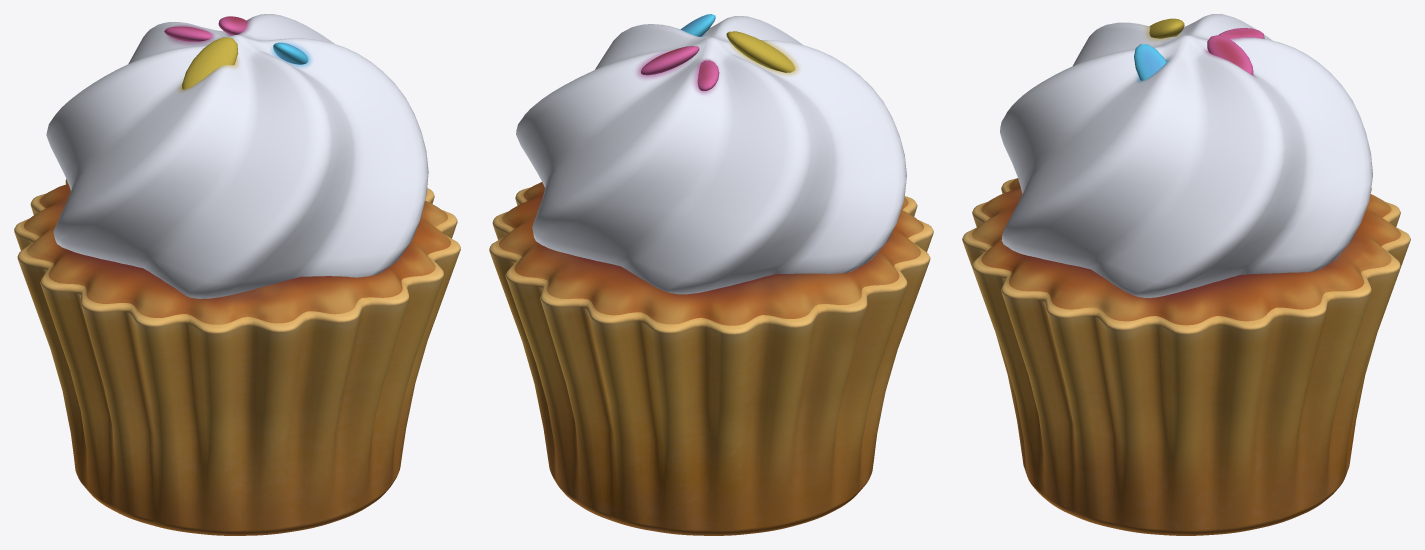
File: cake.dae
3 views of the same model, side by side, from view 1: azimuth 30°, elevation 25°; view 2: azimuth 150°, elevation 25°; view 3: azimuth 270°, elevation 25° (orthographic).
Parts seen in each view (by area): view 1: cupcake_vanilla_sprinkles_stylized_lod0; view 2: cupcake_vanilla_sprinkles_stylized_lod0; view 3: cupcake_vanilla_sprinkles_stylized_lod0.
Boxes of the visible parts, box(x1,y1,x2,y2) form: cupcake_vanilla_sprinkles_stylized_lod0: box(14, 14, 460, 535); cupcake_vanilla_sprinkles_stylized_lod0: box(489, 14, 933, 535); cupcake_vanilla_sprinkles_stylized_lod0: box(962, 14, 1410, 535).
Size of the model in its own units: 0.0568 by 0.0614 by 0.0568.
Materials: 1 (1 with a texture image).
